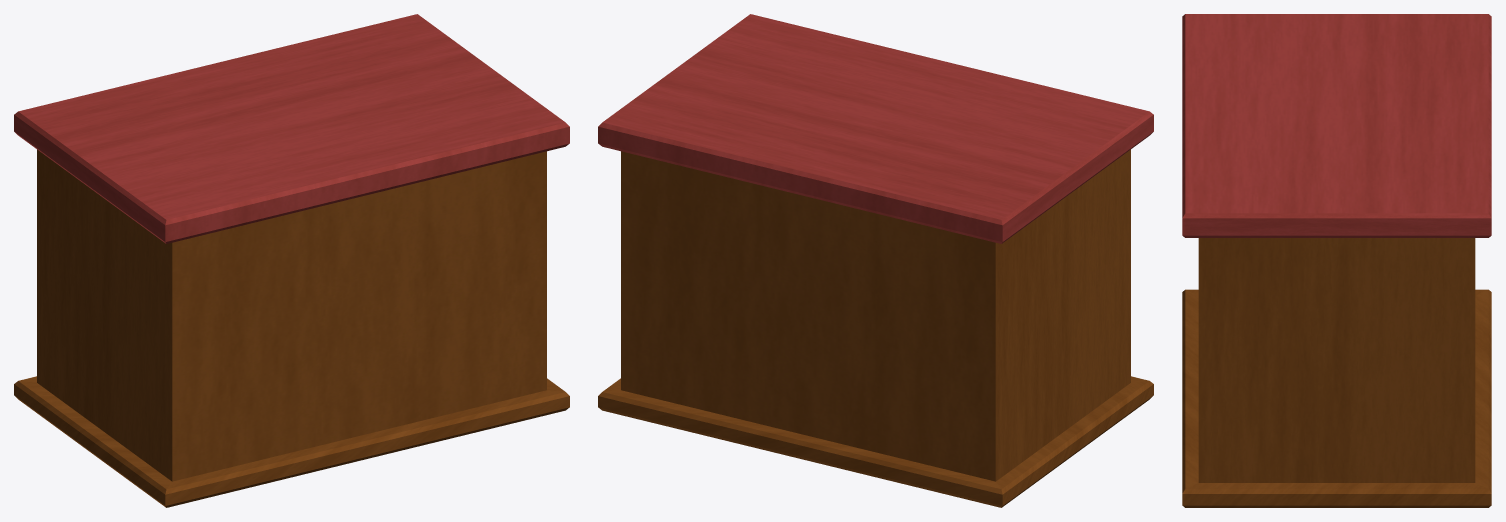
File: CofreCerrado.fbx
The picture shows the model from 3 angles, left to right: view 1: azimuth 30°, elevation 25°; view 2: azimuth 150°, elevation 25°; view 3: azimuth 270°, elevation 25°; orthographic projection. The views are drawn at different scales.
Parts seen in each view (by area): view 1: CajaCerrada; view 2: CajaCerrada; view 3: CajaCerrada.
Boxes of the visible parts, x1=… form: CajaCerrada: x1=14, y1=14, x2=569, y2=507; CajaCerrada: x1=598, y1=14, x2=1153, y2=507; CajaCerrada: x1=1182, y1=14, x2=1491, y2=507.
Bounding box in the file's own units: 345 × 235 × 224.
